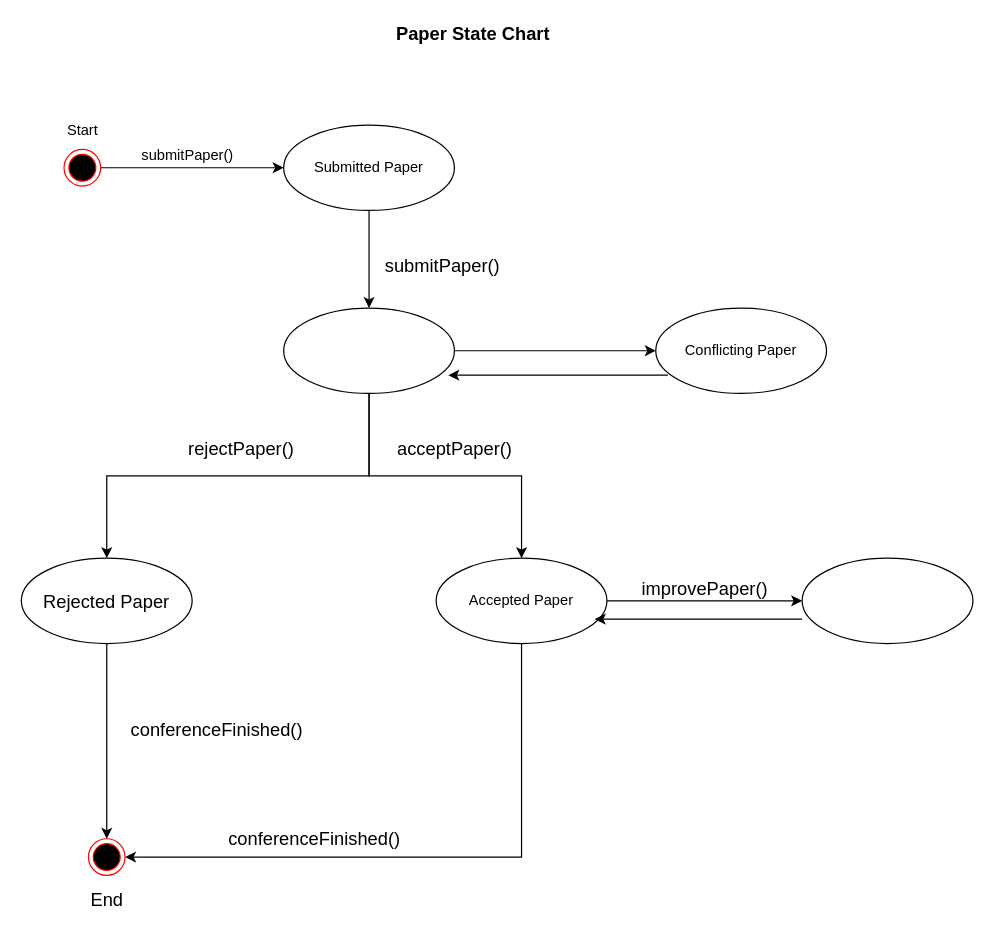
Some shapes in this 994 by 932 pixel diagram are drawn without their labels. The centre of each missing label's shape, as x and y in pixels:
"Improved Paper" belongs at (887,600).
"Reviewed paper" belongs at (368,350).
